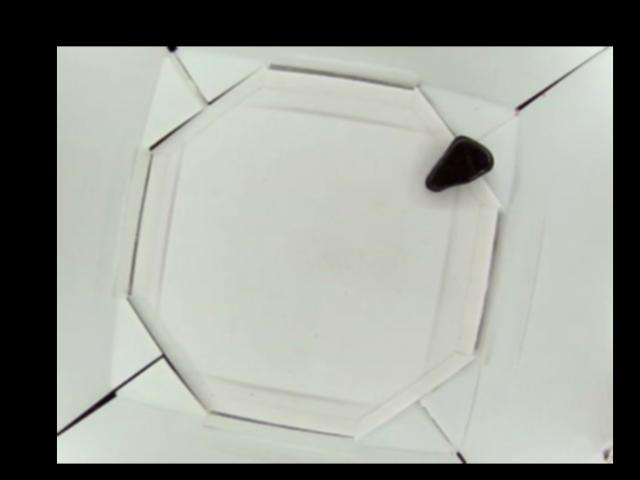Pebble: (424, 134, 495, 195)
